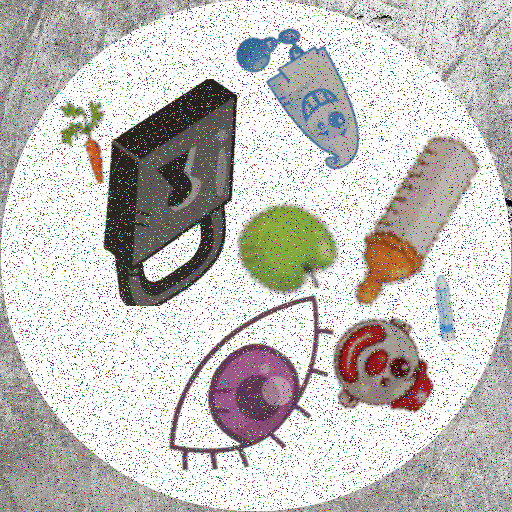apple_icon: (236, 191, 342, 297)
bottle_icon: (313, 123, 509, 319)
carrot_icon: (47, 92, 139, 184)
clown_icon: (326, 316, 436, 426)
eye_icon: (143, 275, 359, 491)
ghost_icon: (221, 12, 391, 182)
lock_icon: (64, 79, 291, 306)
pen_icon: (412, 275, 478, 341)
